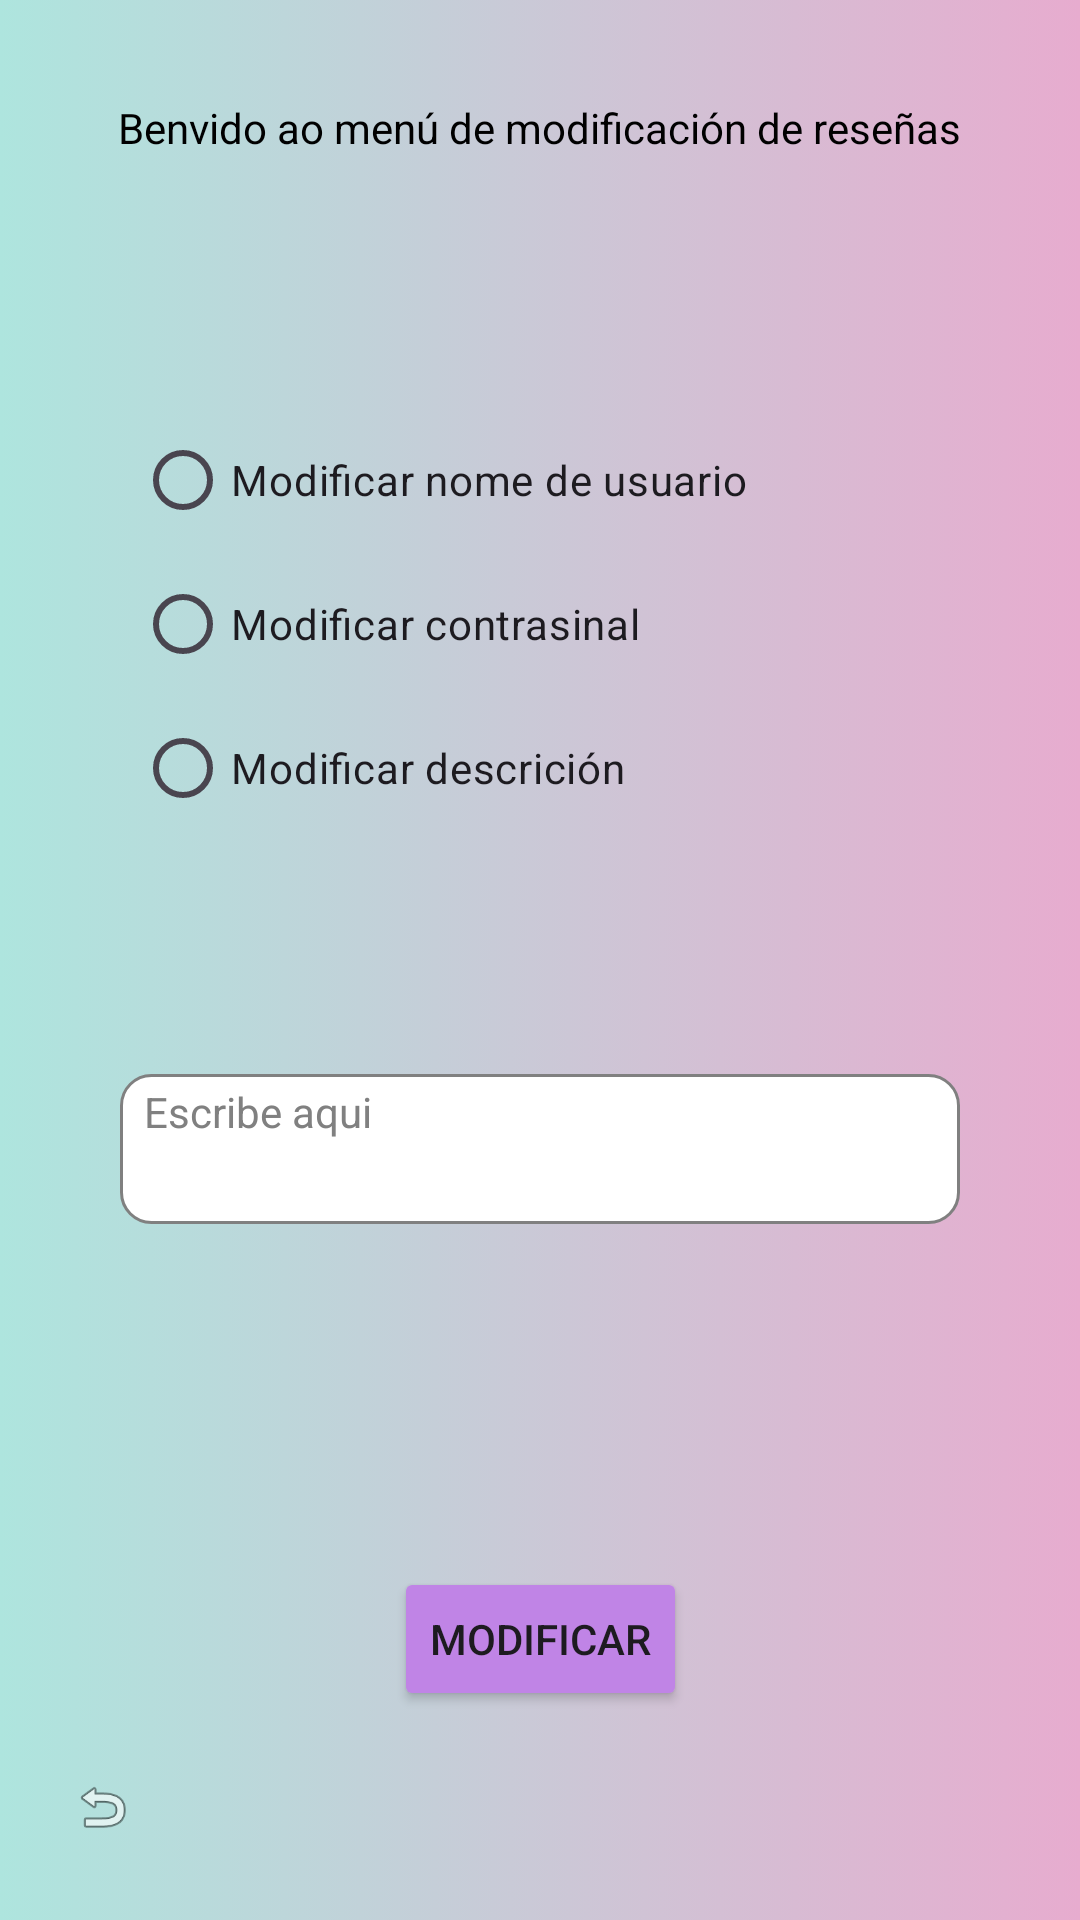

Icon bounding boxes for this 1080 x 1920 phone screenshot, format (x1, y1, x2, y2):
revert: (81, 1787, 126, 1828)
